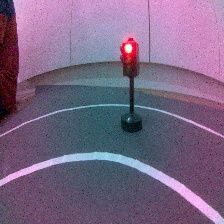red: (117, 36, 145, 136)
